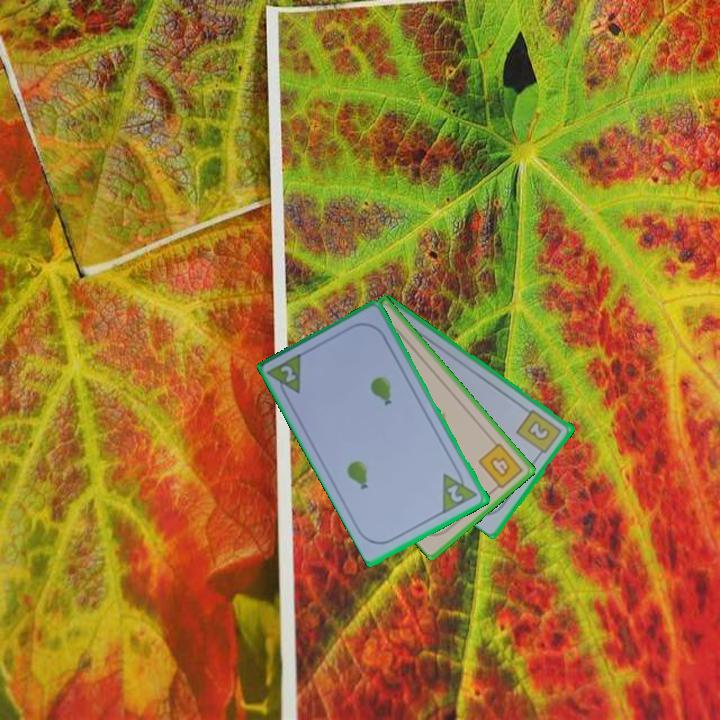2b: (513, 406, 565, 460)
2p: (265, 349, 306, 404), (439, 464, 481, 516)
4b: (475, 439, 526, 494)
